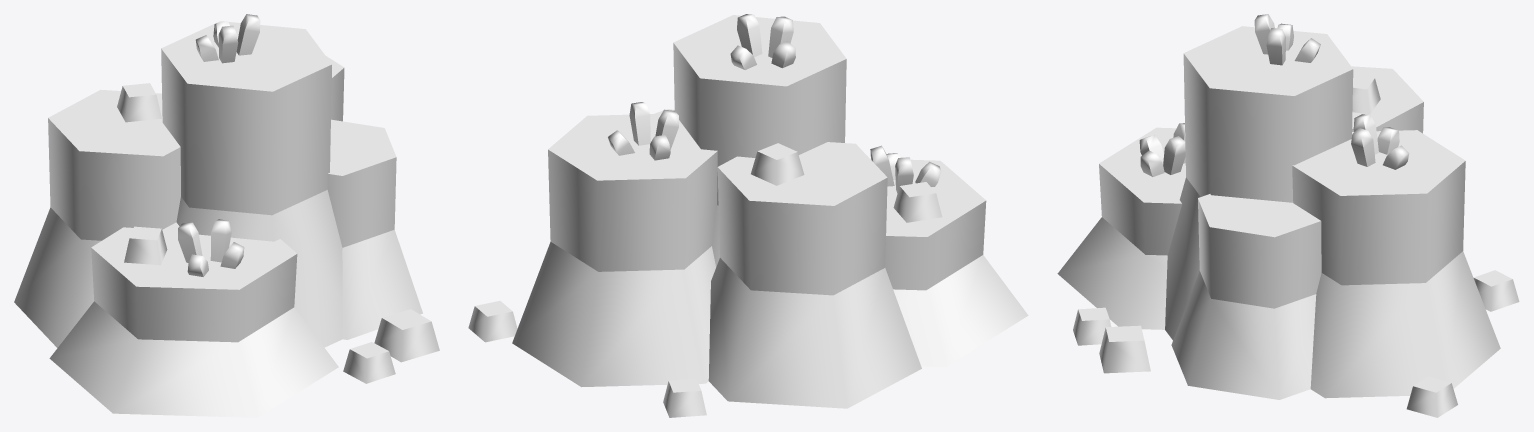
File: rocks-sand-c.glb
3 views of the same model, side by side, from view 1: azimuth 30°, elevation 25°; view 2: azimuth 150°, elevation 25°; view 3: azimuth 270°, elevation 25° (orthographic). The views are drawn at different scales.
Parts seen in each view (by area): view 1: rocks-sand-c; view 2: rocks-sand-c; view 3: rocks-sand-c.
Boxes of the visible parts, x1,y1,x2,y2 form: rocks-sand-c: (14, 14, 439, 417); rocks-sand-c: (468, 14, 1028, 417); rocks-sand-c: (1057, 14, 1519, 417).
Size of the model in its own units: 3.71 by 2.61 by 3.72.
Materials: 1 (1 with a texture image).
